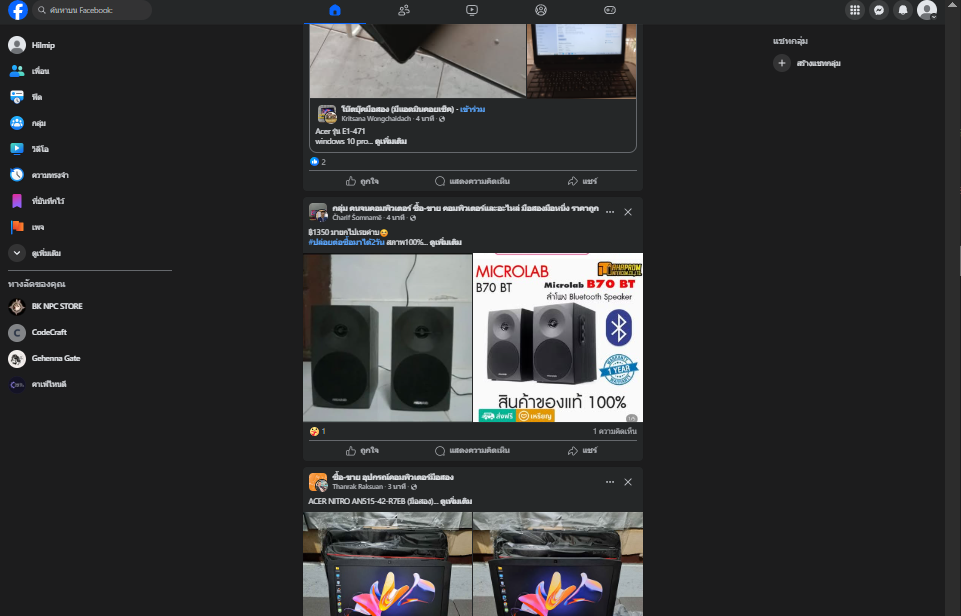topic: (303, 197, 645, 461), (299, 21, 643, 191), (301, 467, 642, 616)
